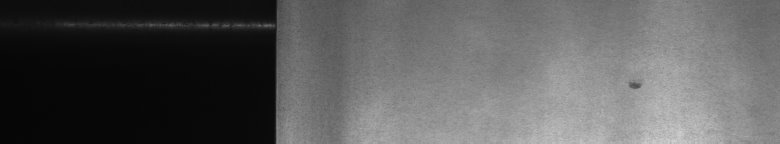fi: (625, 76, 644, 96)
